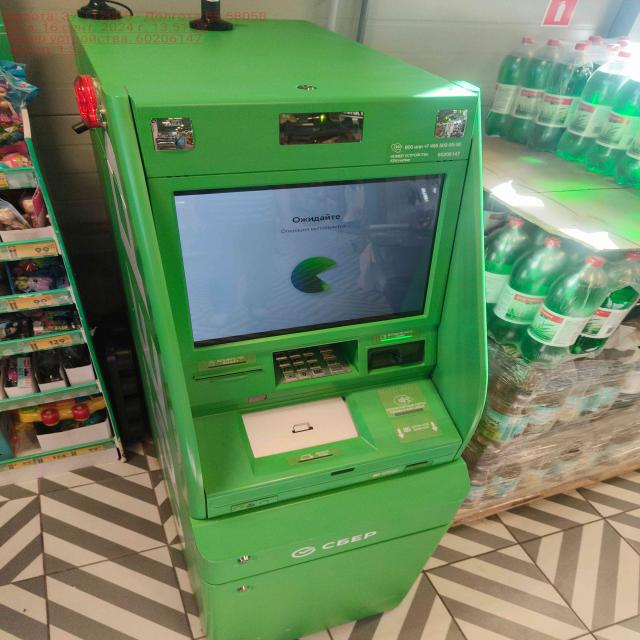bank: (55, 9, 488, 640)
